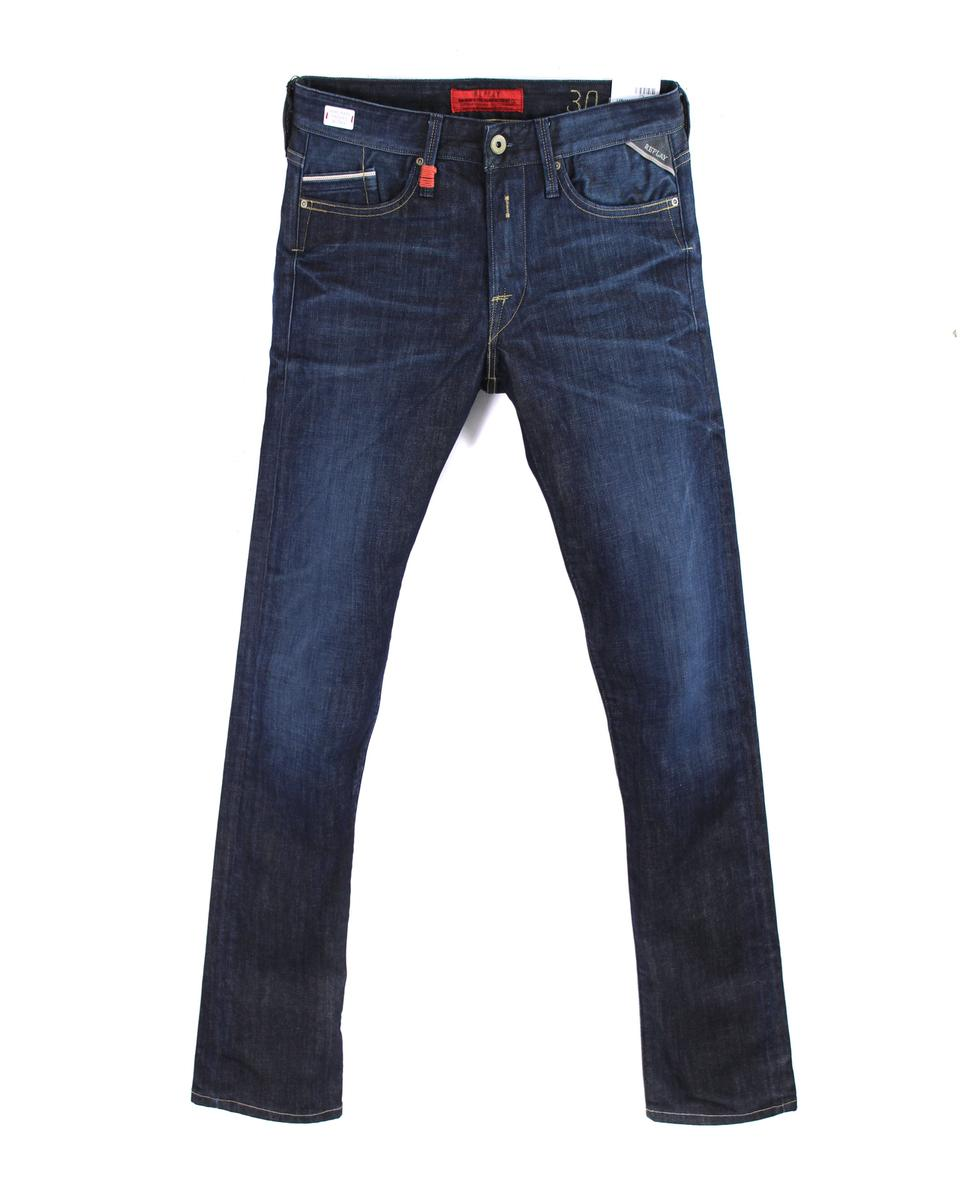jeans: (178, 64, 805, 1140)
